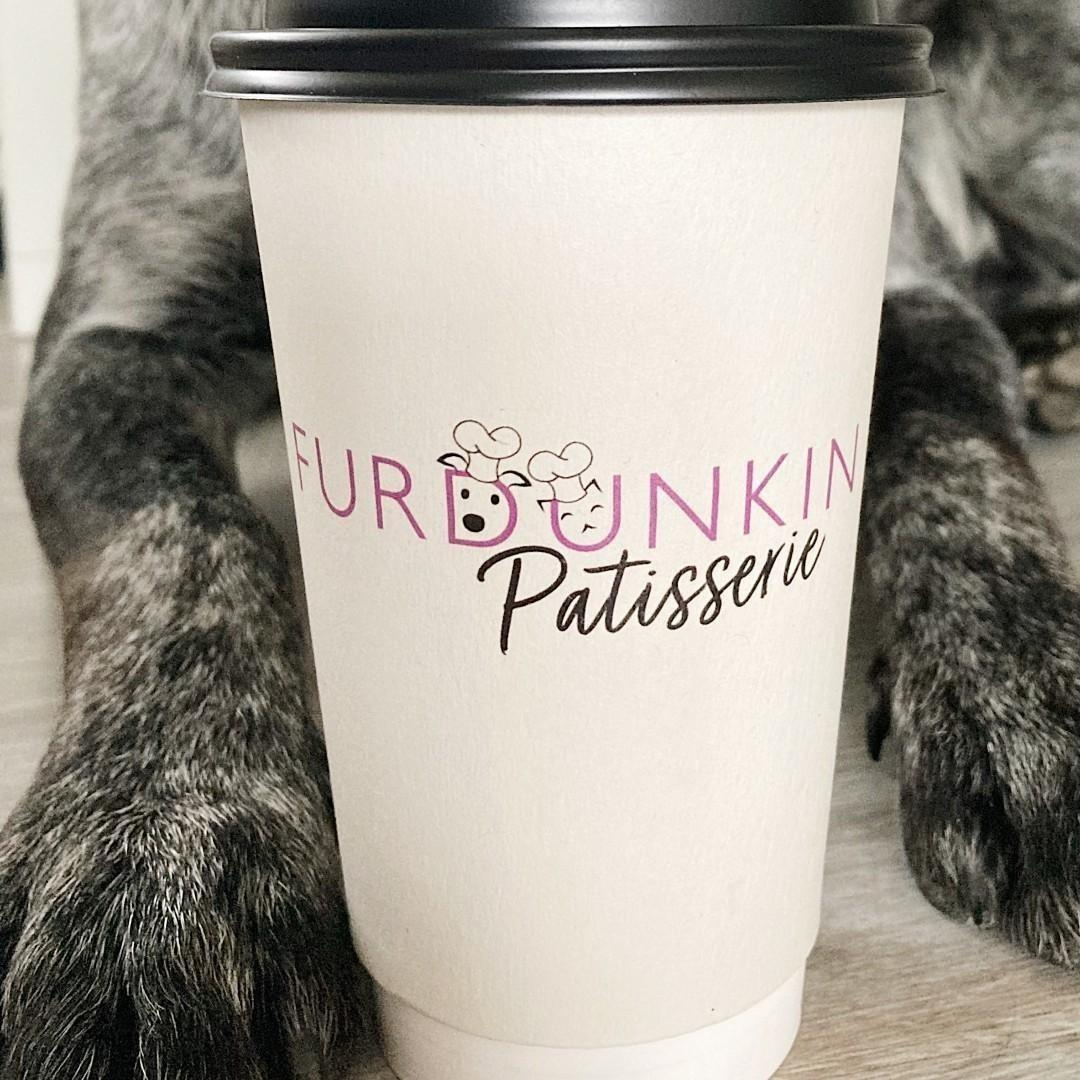cup-disposable: (189, 0, 929, 1080)
